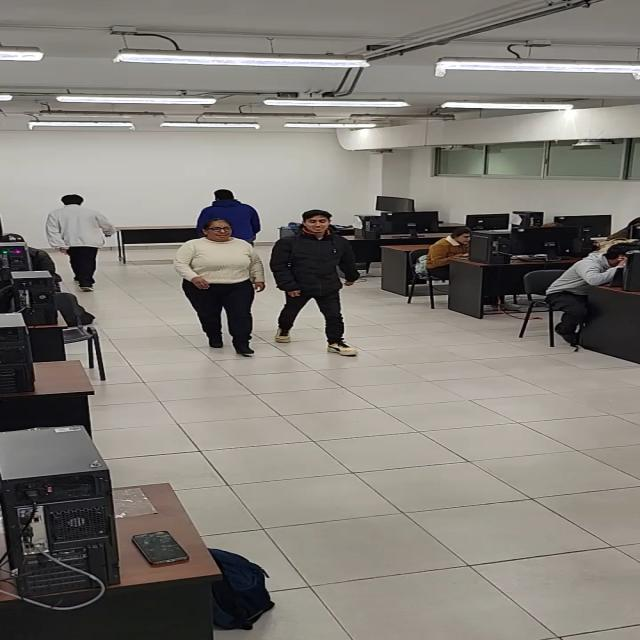Persona: (270, 210, 359, 356), (173, 218, 266, 354), (46, 194, 116, 292), (196, 189, 262, 249)
